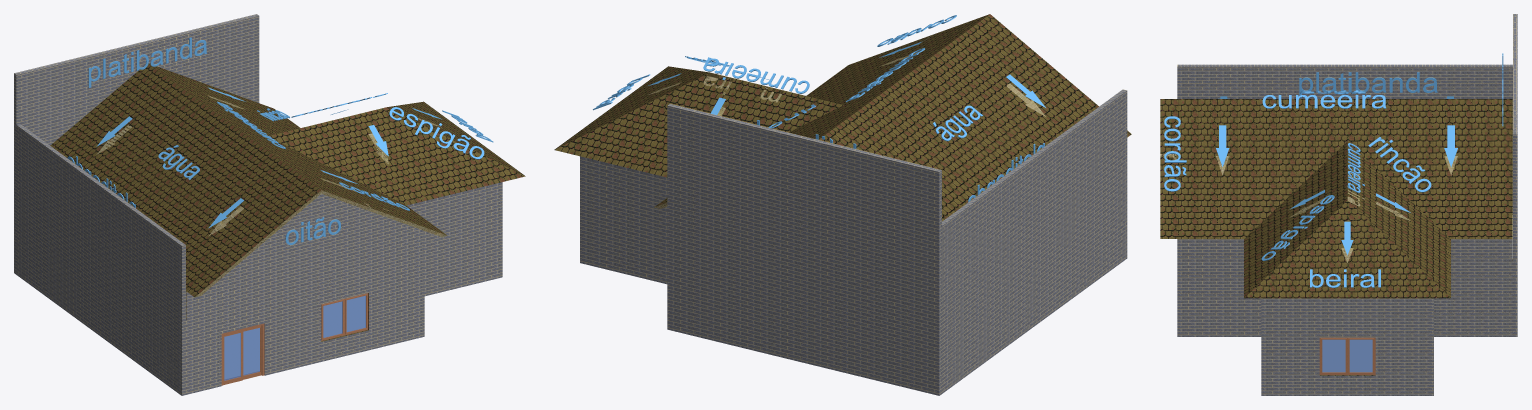
File: casa.dae
The picture shows the model from 3 angles, left to right: view 1: azimuth 30°, elevation 25°; view 2: azimuth 150°, elevation 25°; view 3: azimuth 270°, elevation 25°; orthographic projection. The views are drawn at different scales.
Visible parts, largest first — view 1: SketchUp (×10); view 2: SketchUp (×3); view 3: SketchUp (×9).
Boxes of the visible parts, x1,y1,x2,y2 form: SketchUp (×10): (14,14,525,395); SketchUp (×3): (554,14,1131,395); SketchUp (×9): (1160,14,1517,395).
Size of the model in its own units: 622 by 503 by 315.
Materials: 9 (5 with a texture image).
